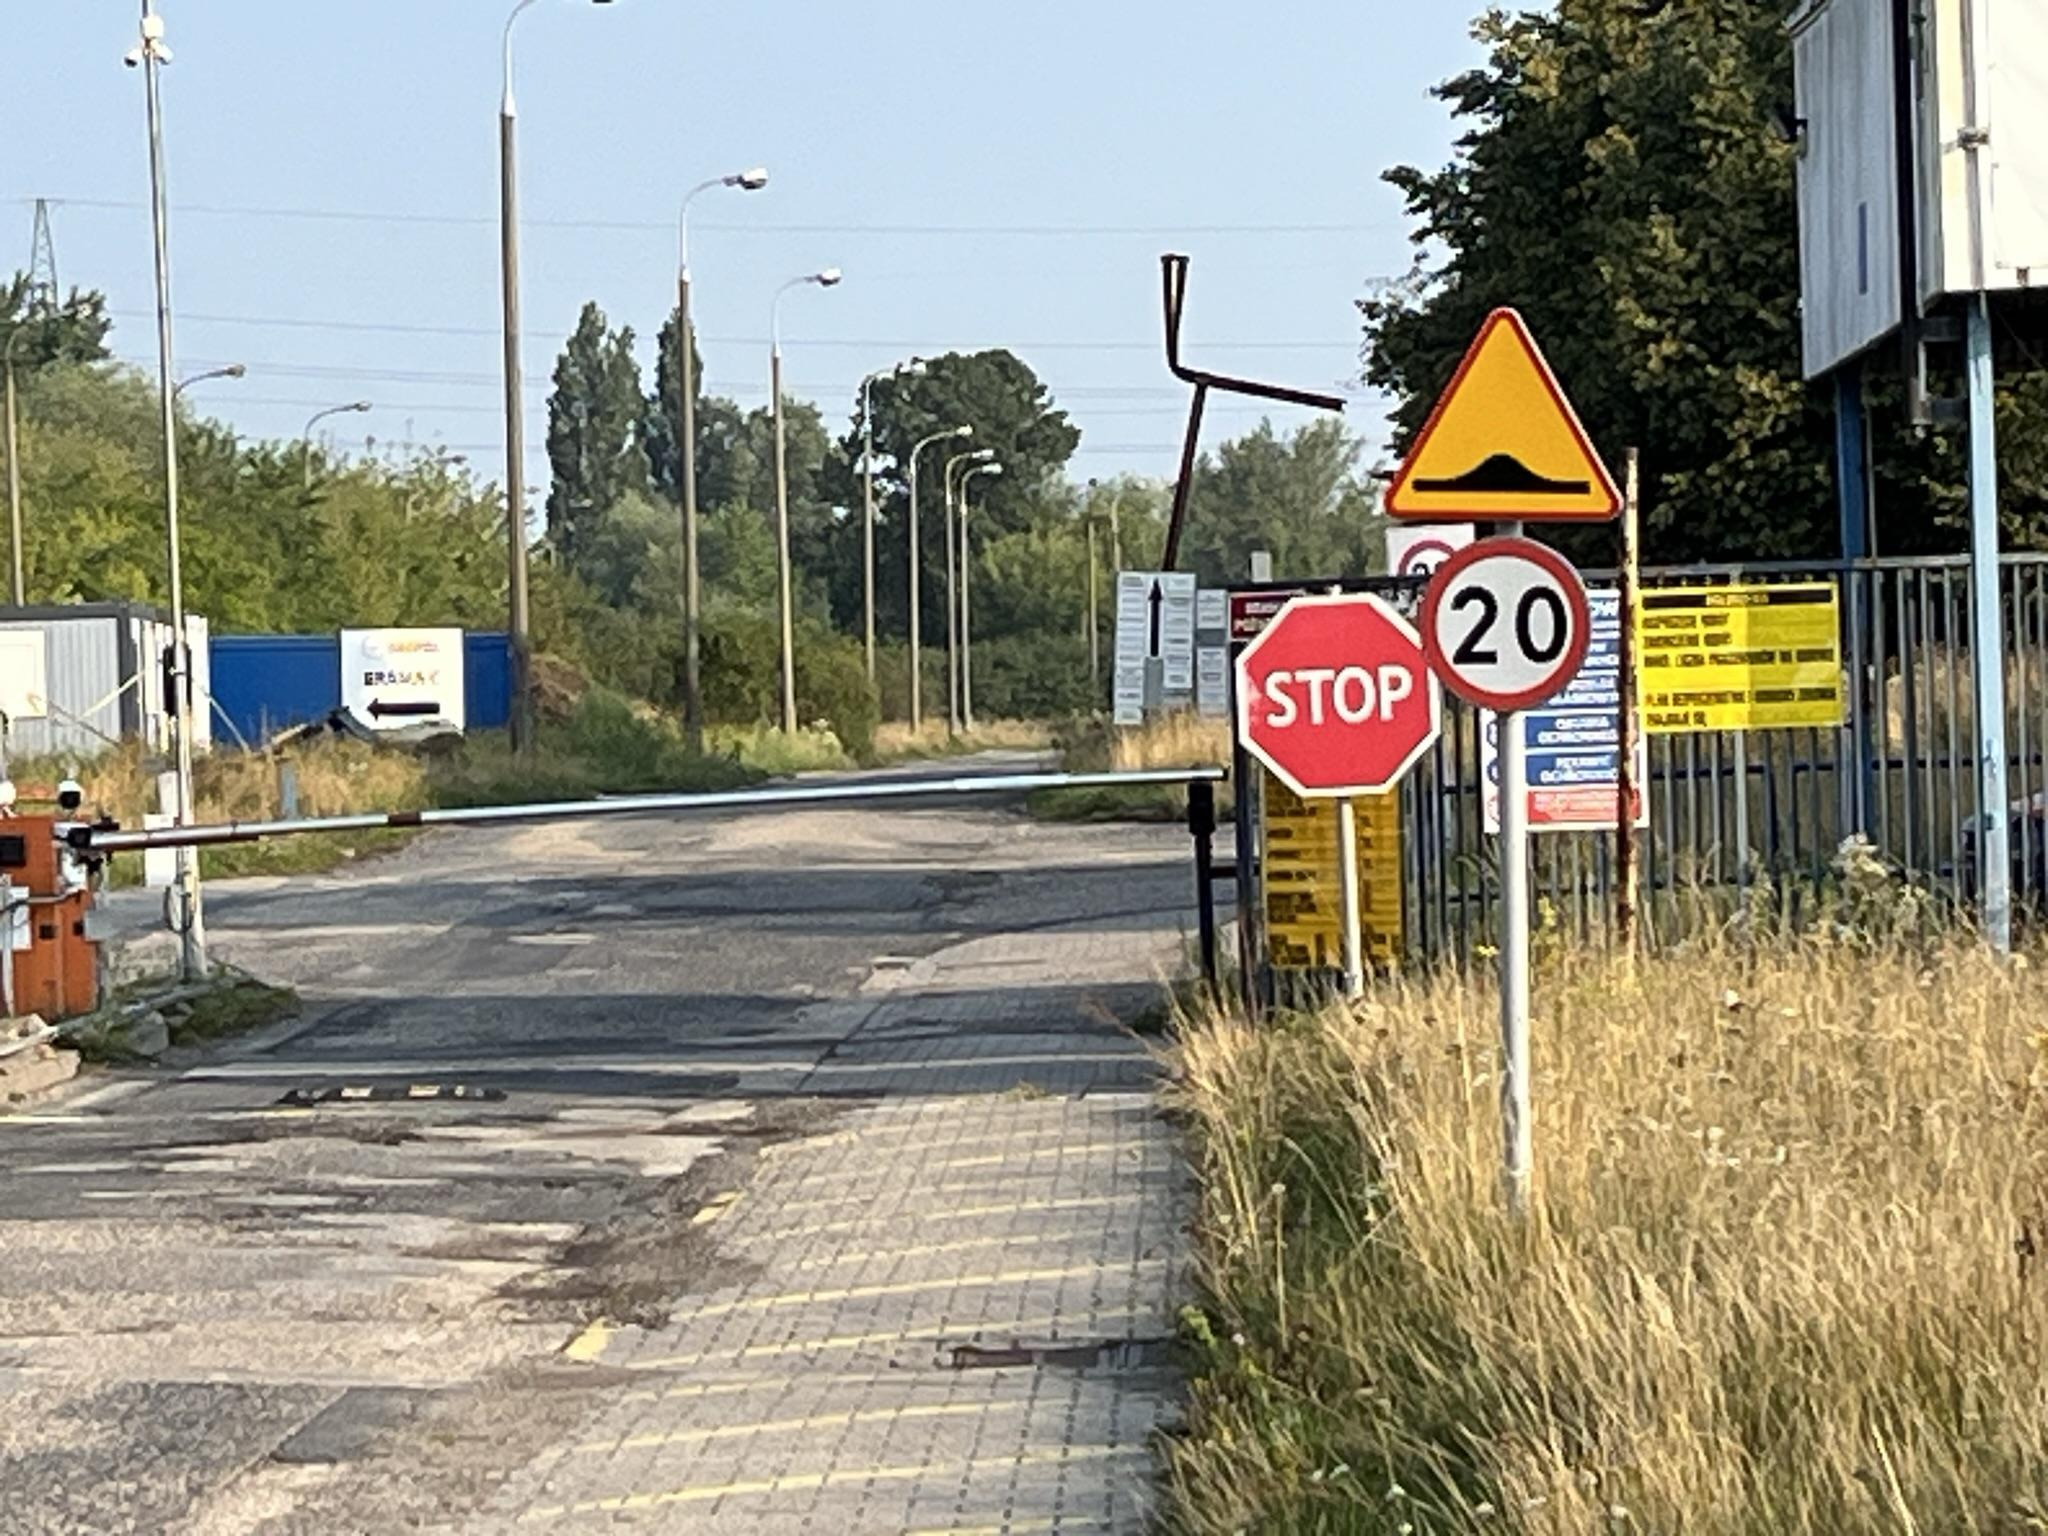prohibitory: (1237, 594, 1443, 795), (1419, 537, 1593, 712), (1400, 537, 1458, 576)
warning: (1384, 303, 1624, 521)
